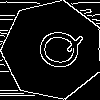Q: (27, 25, 84, 73)
